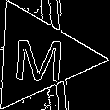M_N: (11, 30, 67, 83)
